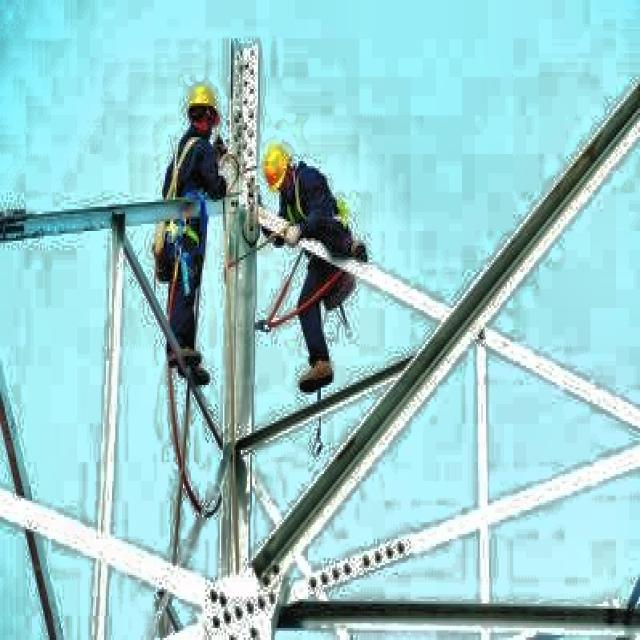helmet: (184, 80, 220, 140), (256, 137, 294, 193)
